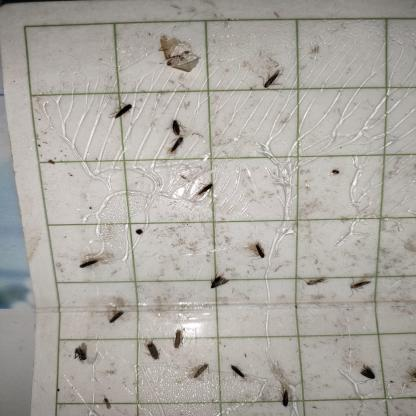prays_oleae: (66, 245, 110, 280), (110, 84, 138, 136), (193, 267, 234, 299), (190, 172, 218, 206), (170, 316, 193, 356), (106, 299, 130, 337), (354, 358, 378, 396), (260, 62, 284, 96), (141, 333, 163, 369), (244, 235, 272, 261), (228, 358, 248, 394), (170, 112, 192, 144), (71, 334, 93, 366), (348, 274, 374, 300), (302, 269, 330, 293), (192, 359, 212, 389), (275, 382, 294, 412), (166, 135, 188, 156)
